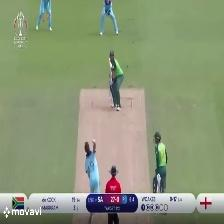batsman: (99, 47, 130, 114)
